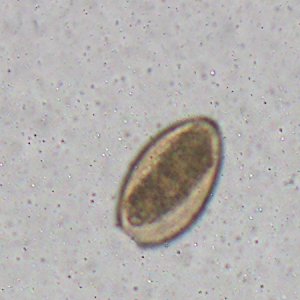Fasciola_hepatica_egg: (113, 114, 223, 250)
